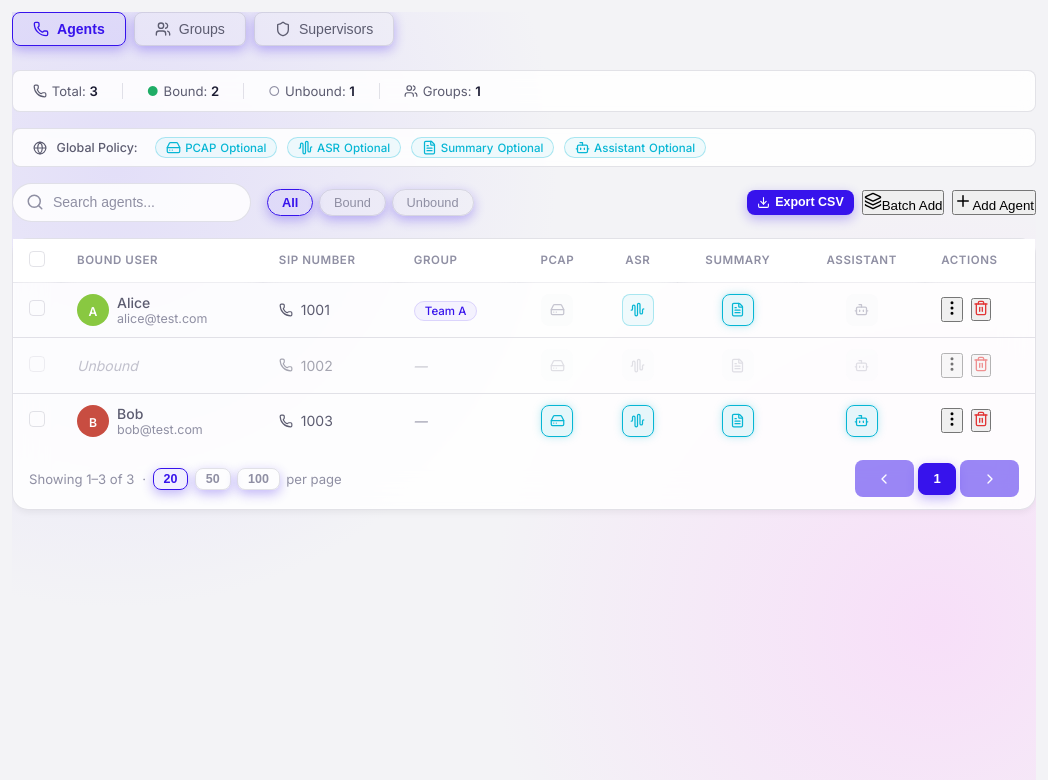
Scenario: Agents Page › should filter agents by search term (SIP number)
expect the text "1001" is shown: met, box [279, 302, 330, 318]
Step 1. Type "1003" into the field with placeholder "Search agents..." → (132, 202), box [12, 183, 251, 222]
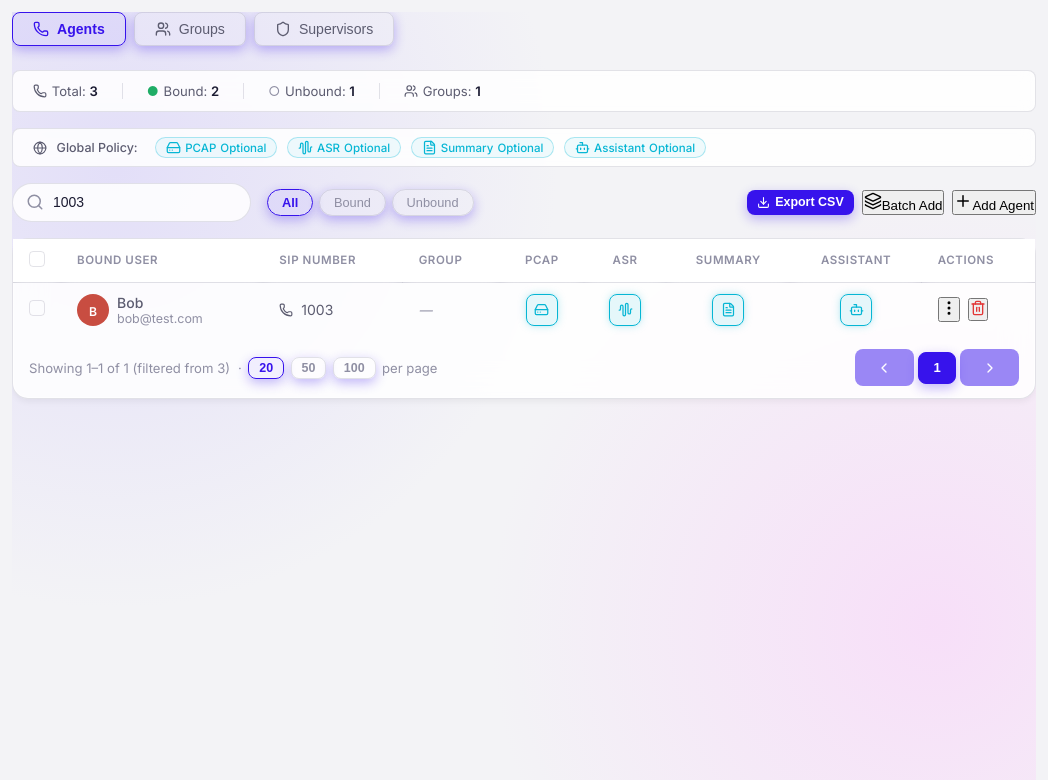
expect the text "1003" is shown: met, box [279, 302, 333, 318]
expect the text "1001" is gone: met
